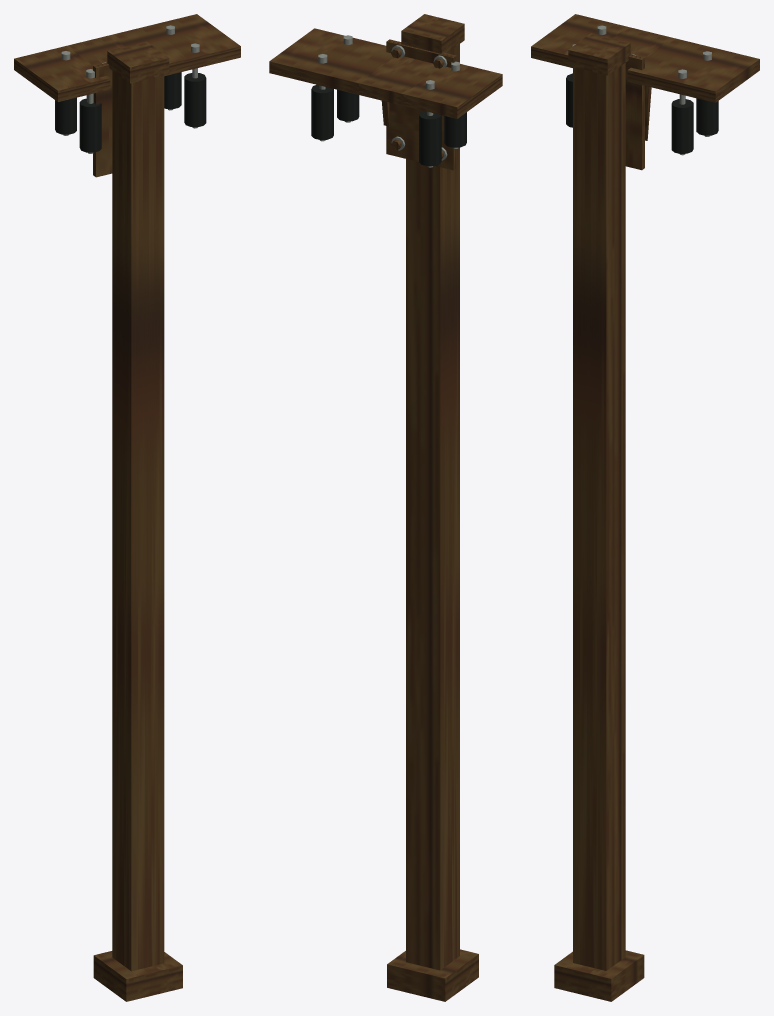
File: SG_Wood_GuidePost_Reverse.glb
The picture shows the model from 3 angles, left to right: view 1: azimuth 30°, elevation 25°; view 2: azimuth 150°, elevation 25°; view 3: azimuth 330°, elevation 25°; orthographic projection. The views are drawn at different scales.
Visible parts, largest first — view 1: SG_Wood_2_high_Reverse_SG_Post_Right_Reverse; view 2: SG_Wood_2_high_Reverse_SG_Post_Right_Reverse; view 3: SG_Wood_2_high_Reverse_SG_Post_Right_Reverse.
Part boxes in pixels (x1=…): SG_Wood_2_high_Reverse_SG_Post_Right_Reverse: x1=14, y1=14, x2=240, y2=1001; SG_Wood_2_high_Reverse_SG_Post_Right_Reverse: x1=269, y1=14, x2=502, y2=1001; SG_Wood_2_high_Reverse_SG_Post_Right_Reverse: x1=531, y1=14, x2=759, y2=1001.
Size of the model in its own units: 0.42 by 2.04 by 0.265.
Materials: 1 (1 with a texture image).
